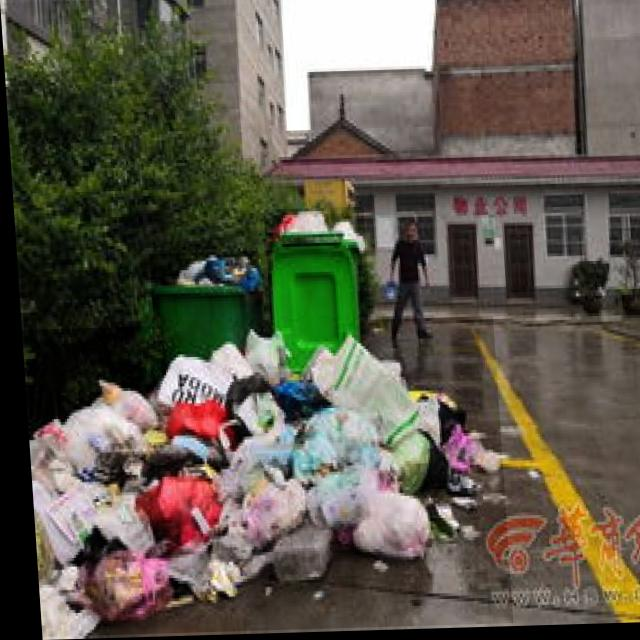garbage: (17, 319, 504, 637)
overflow: (261, 209, 369, 371), (146, 252, 260, 359)
